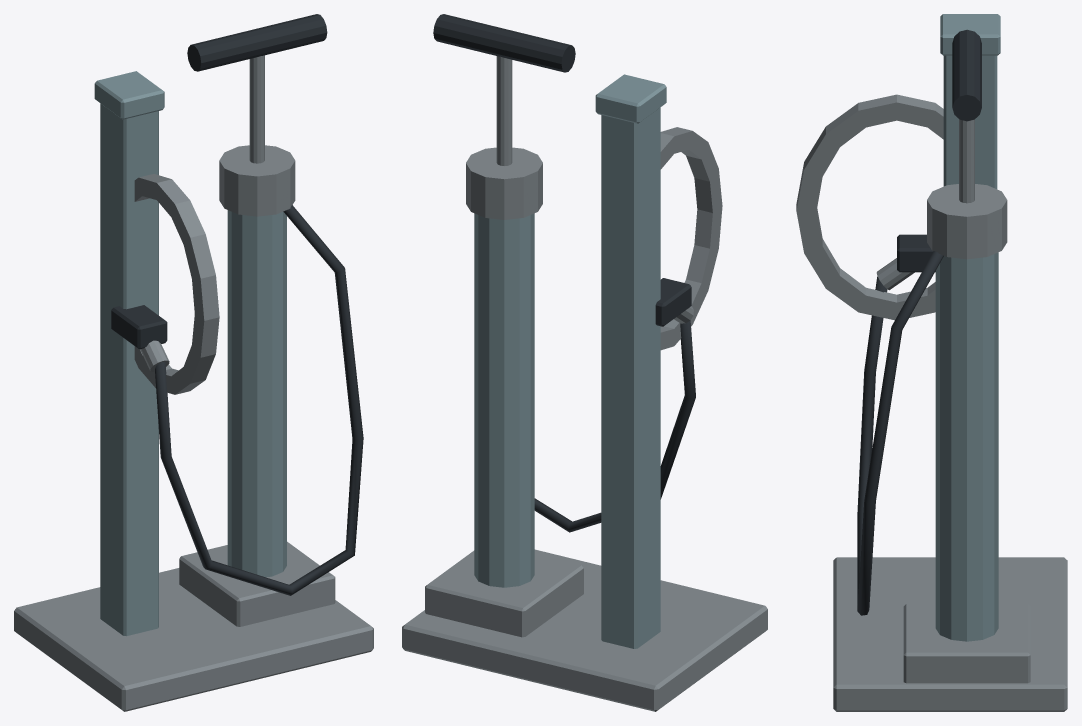
3 renders of one model, left to right at view 1: azimuth 30°, elevation 25°; view 2: azimuth 150°, elevation 25°; view 3: azimuth 270°, elevation 25°, orthographic. The views are drawn at different scales.
Parts seen in each view (by area): view 1: Parking service post, Ground mounting base, Static pump barrel, Parked hose, Open parking loop, Pump foot support, Pump top collar, Pump T handle, Post cap, Nozzle retaining clip, Fixed extended pump stem; view 2: Parking service post, Ground mounting base, Static pump barrel, Pump foot support, Open parking loop, Pump top collar, Pump T handle, Parked hose, Post cap, Fixed extended pump stem, Nozzle retaining clip; view 3: Static pump barrel, Ground mounting base, Open parking loop, Pump foot support, Parked hose, Pump top collar, Parking service post, Pump T handle, Post cap, Fixed extended pump stem, Nozzle retaining clip, Parked nozzle.
Part boxes in pixels (bbox=[...]): Parking service post: bbox=[100, 103, 158, 636]; Ground mounting base: bbox=[14, 568, 373, 711]; Static pump barrel: bbox=[227, 210, 286, 577]; Parked hose: bbox=[155, 205, 363, 595]; Open parking loop: bbox=[134, 174, 219, 394]; Pump foot support: bbox=[179, 541, 335, 626]; Pump top collar: bbox=[219, 145, 295, 216]; Pump T handle: bbox=[187, 14, 327, 71]; Post cap: bbox=[94, 71, 164, 119]; Nozzle retaining clip: bbox=[111, 305, 167, 349]; Fixed extended pump stem: bbox=[249, 55, 264, 163]; Parking service post: bbox=[601, 107, 660, 648]; Ground mounting base: bbox=[402, 549, 767, 711]; Static pump barrel: bbox=[474, 213, 534, 587]; Pump foot support: bbox=[425, 550, 583, 637]; Open parking loop: bbox=[660, 127, 722, 350]; Pump top collar: bbox=[466, 147, 542, 219]; Pump T handle: bbox=[433, 14, 575, 72]; Parked hose: bbox=[534, 320, 695, 532]; Post cap: bbox=[595, 74, 666, 123]; Fixed extended pump stem: bbox=[496, 56, 512, 165]; Nozzle retaining clip: bbox=[655, 278, 691, 326]; Static pump barrel: bbox=[935, 252, 998, 641]; Ground mounting base: bbox=[833, 557, 1067, 711]; Open parking loop: bbox=[796, 94, 943, 320]; Pump foot support: bbox=[903, 604, 1030, 683]; Parked hose: bbox=[857, 251, 943, 615]; Pump top collar: bbox=[927, 184, 1007, 259]; Parking service post: bbox=[943, 55, 997, 188]; Pump T handle: bbox=[952, 29, 981, 121]; Post cap: bbox=[940, 14, 1000, 55]; Fixed extended pump stem: bbox=[959, 119, 974, 203]; Nozzle retaining clip: bbox=[897, 234, 935, 272]; Parked nozzle: bbox=[876, 258, 914, 290].
Bounding box in the file's own units: 0.475 × 1.03 × 0.405.
